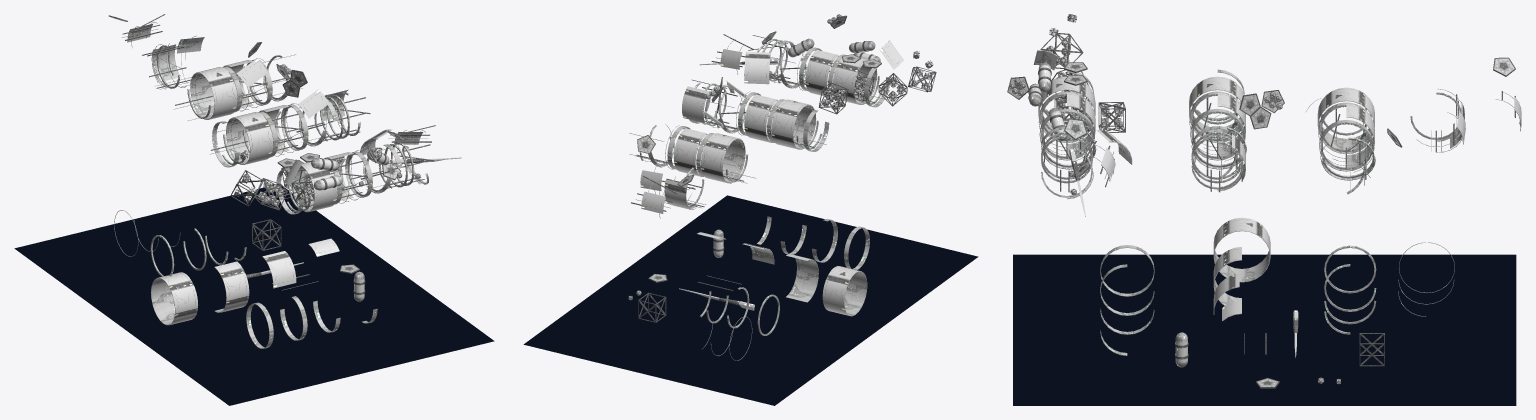
Rendered from debris.glb.
3 renders of one model, left to right at view 1: azimuth 30°, elevation 25°; view 2: azimuth 150°, elevation 25°; view 3: azimuth 270°, elevation 25°, orthographic. The views are drawn at different scales.
Parts seen in each view (by area): view 1: Plane001, Panel01d 000, Panel01d 005, Panel01d 006, Panel01c 000, Panel01d 007, Panel01b 000, Panel01b 002, Ring01a 000, Panel01a 004, Panel01a 005, Scaffold01 000; view 2: Plane001, Panel01d 000, Panel01d 005, Panel01d 006, Panel01d 007, Panel01c 003, Panel01c 000, Panel01c 002, Panel01c 004, Panel01b 004_Material #0_0, Panel01b 003, Panel01b 002 (+3 smaller); view 3: Plane001, Panel01d 000, Panel01d 005, Panel01d 006, Panel01d 007, Panel01c 002, Panel01c 000, Panel01c 004, Panel01c 003, Scaffold01 063, Scaffold01 000.
Part boxes in pixels (<box>): Plane001: <box>14,185,494,405</box>; Panel01d 000: <box>151,272,197,325</box>; Panel01d 005: <box>190,67,237,119</box>; Panel01d 006: <box>226,112,273,164</box>; Panel01c 000: <box>214,261,249,312</box>; Panel01d 007: <box>290,162,337,212</box>; Panel01b 000: <box>262,251,296,288</box>; Panel01b 002: <box>151,44,180,82</box>; Ring01a 000: <box>246,302,273,348</box>; Panel01a 004: <box>236,58,268,87</box>; Panel01a 005: <box>298,89,329,118</box>; Scaffold01 000: <box>252,219,281,250</box>; Plane001: <box>523,195,978,405</box>; Panel01d 000: <box>822,266,867,316</box>; Panel01d 005: <box>701,133,745,183</box>; Panel01d 006: <box>771,99,816,149</box>; Panel01d 007: <box>832,55,877,104</box>; Panel01c 003: <box>744,94,777,142</box>; Panel01c 000: <box>786,254,818,302</box>; Panel01c 002: <box>673,128,706,176</box>; Panel01c 004: <box>805,50,838,95</box>; Panel01b 004_Material #0_0: <box>744,51,770,84</box>; Panel01b 003: <box>682,86,709,122</box>; Panel01b 002: <box>664,179,691,209</box>; Plane001: <box>1013,254,1516,405</box>; Panel01d 000: <box>1213,217,1270,282</box>; Panel01d 005: <box>1317,87,1374,149</box>; Panel01d 006: <box>1189,76,1245,138</box>; Panel01d 007: <box>1038,76,1095,138</box>; Panel01c 002: <box>1346,104,1374,167</box>; Panel01c 000: <box>1213,247,1241,305</box>; Panel01c 004: <box>1067,93,1095,155</box>; Panel01c 003: <box>1217,93,1245,156</box>; Scaffold01 063: <box>1098,102,1125,132</box>; Scaffold01 000: <box>1359,333,1384,366</box>.
Bounding box in the file's own units: 142 × 116 × 205.
Materials: 2 (1 with a texture image).
